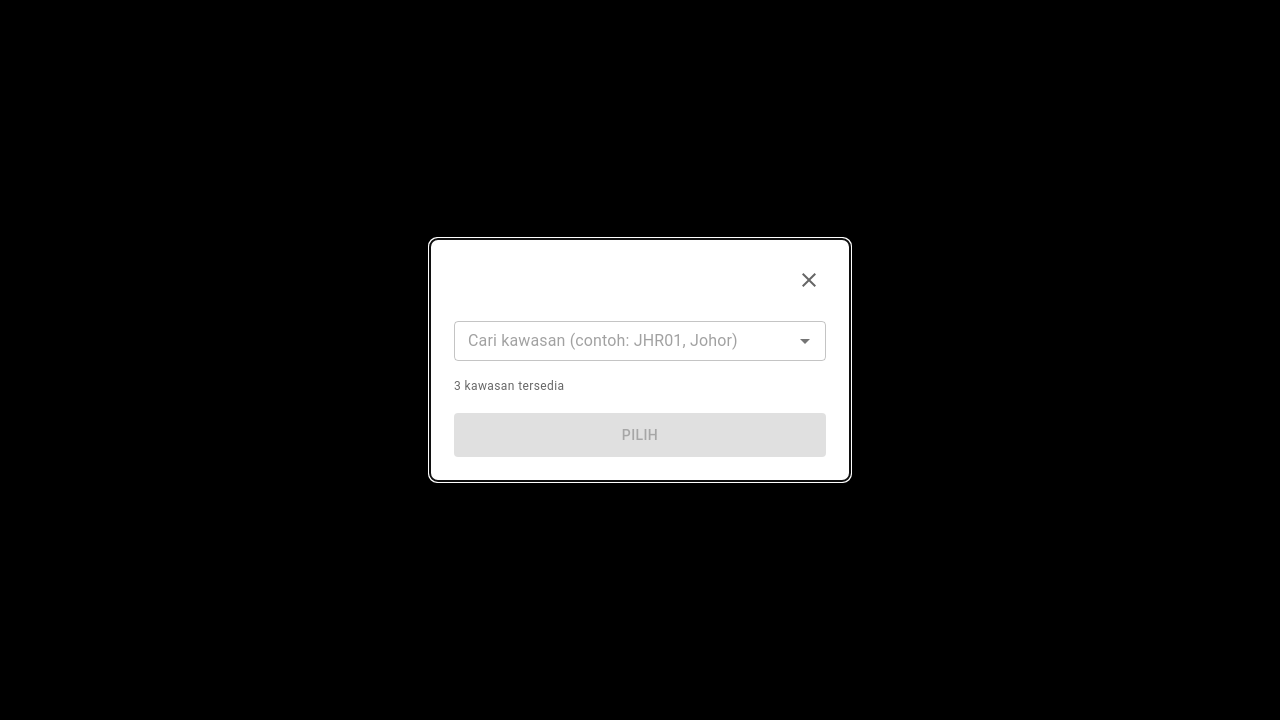
ZoneModal Component › Zone Selection › should enable Select button after zone selection
Type to filter zones
Type "JHR" into the dropdown at (624, 341), box [460,327,787,355]
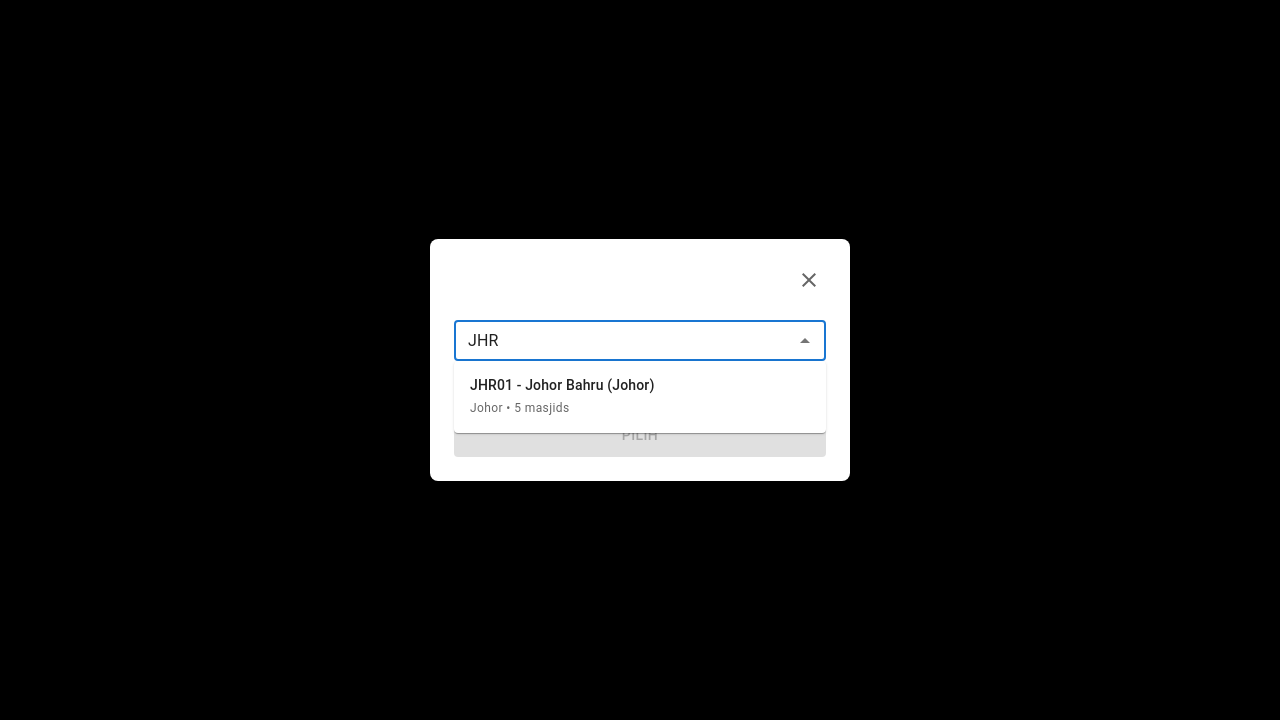
Now the text "JHR01 - Johor Bahru (Johor)" is shown
Click option
Click the text "JHR01 - Johor Bahru (Johor)" at (562, 385), box [470,375,654,395]
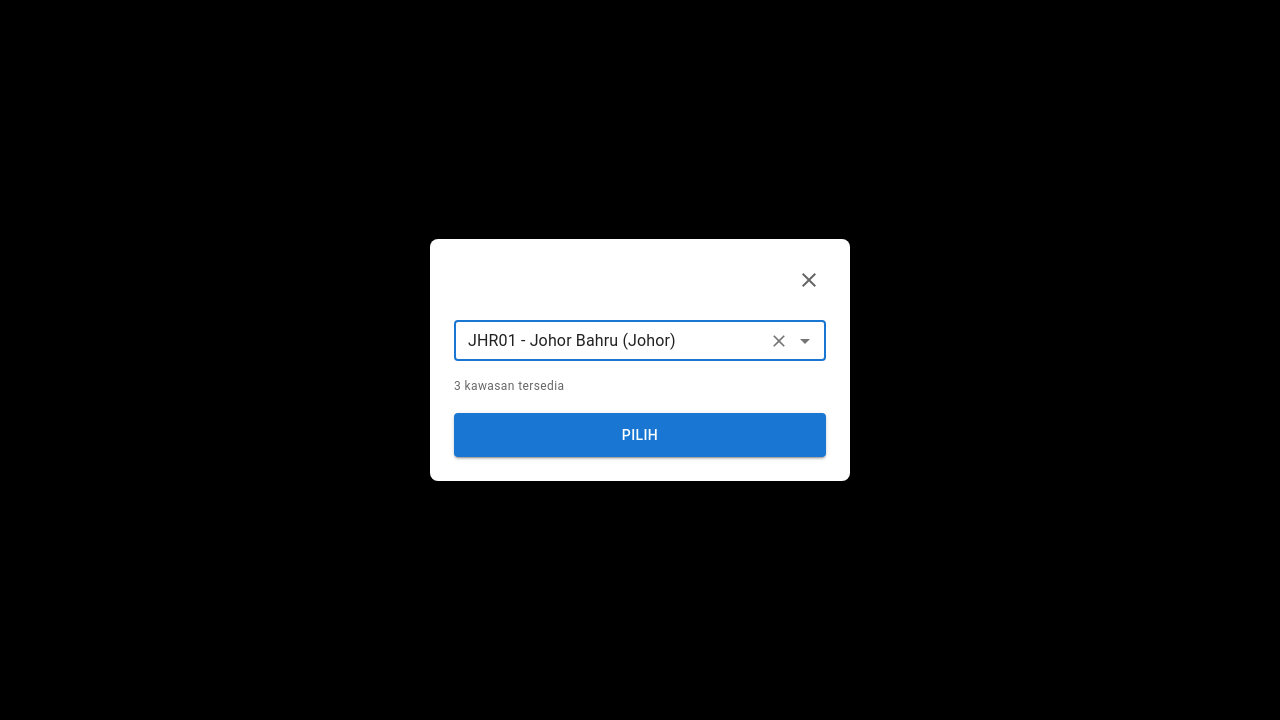
Now the button "Pilih" is enabled, box [454,413,826,457]
